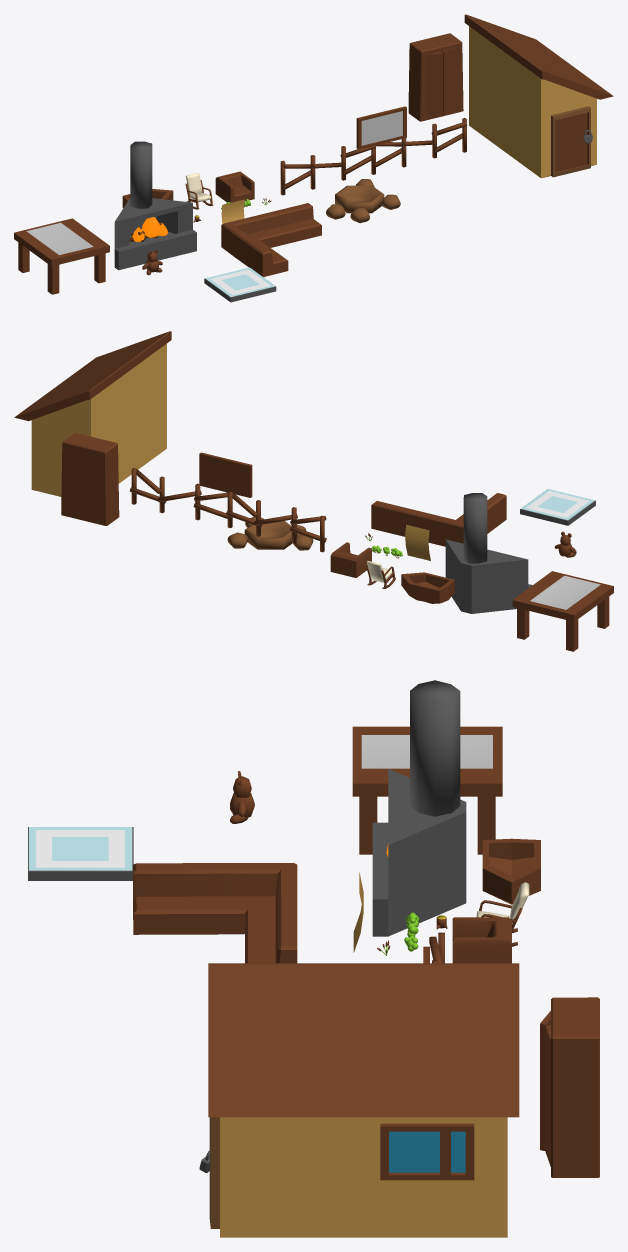
The model's file is Kusti.fbx.
The picture shows the model from 3 angles, top to bottom: view 1: azimuth 30°, elevation 25°; view 2: azimuth 150°, elevation 25°; view 3: azimuth 270°, elevation 25°; orthographic projection. The views are drawn at different scales.
Parts seen in each view (by area): view 1: Sarai, CUMin, Sofa, Closet, Table, Fence, Hole, Picture, PowerStation, Map, Chair, ChairRider (+1 smaller); view 2: Sarai, CUMin, Closet, Table, Sofa, Fence, Picture, PowerStation, Hole, Boat, Map, Chair (+2 smaller); view 3: Sarai, CUMin, Sofa, Closet, Table, PowerStation, Boat, Chair, Map, ToyBear, ChairRider.
Part boxes in pixels (x1,y1,x2,y2): Sarai: (464, 14, 613, 178); CUMin: (114, 141, 196, 270); Sofa: (221, 203, 321, 276); Closet: (408, 33, 463, 121); Table: (14, 218, 109, 294); Fence: (280, 118, 467, 195); Hole: (326, 179, 400, 223); Picture: (356, 106, 406, 149); PowerStation: (204, 267, 276, 302); Map: (26, 223, 93, 255); Chair: (215, 171, 254, 202); ChairRider: (185, 172, 213, 209); Sarai: (14, 331, 171, 496); CUMin: (445, 493, 532, 613); Closet: (61, 433, 119, 525); Table: (512, 571, 613, 651); Sofa: (371, 493, 506, 546); Fence: (129, 468, 326, 552); Picture: (199, 452, 252, 497); PowerStation: (520, 489, 595, 525); Hole: (227, 517, 313, 550); Boat: (401, 572, 454, 603); Map: (530, 575, 600, 609); Chair: (330, 542, 371, 577); Sarai: (199, 963, 519, 1237); CUMin: (372, 680, 466, 936); Sofa: (133, 863, 297, 963); Closet: (540, 997, 599, 1177); Table: (352, 726, 502, 854); PowerStation: (28, 827, 133, 880); Boat: (482, 838, 540, 904); Chair: (452, 917, 511, 963); Map: (361, 735, 492, 768); ToyBear: (230, 771, 254, 823); ChairRider: (476, 882, 529, 946).
Size of the model in its own units: 3646 by 929 by 1715.
